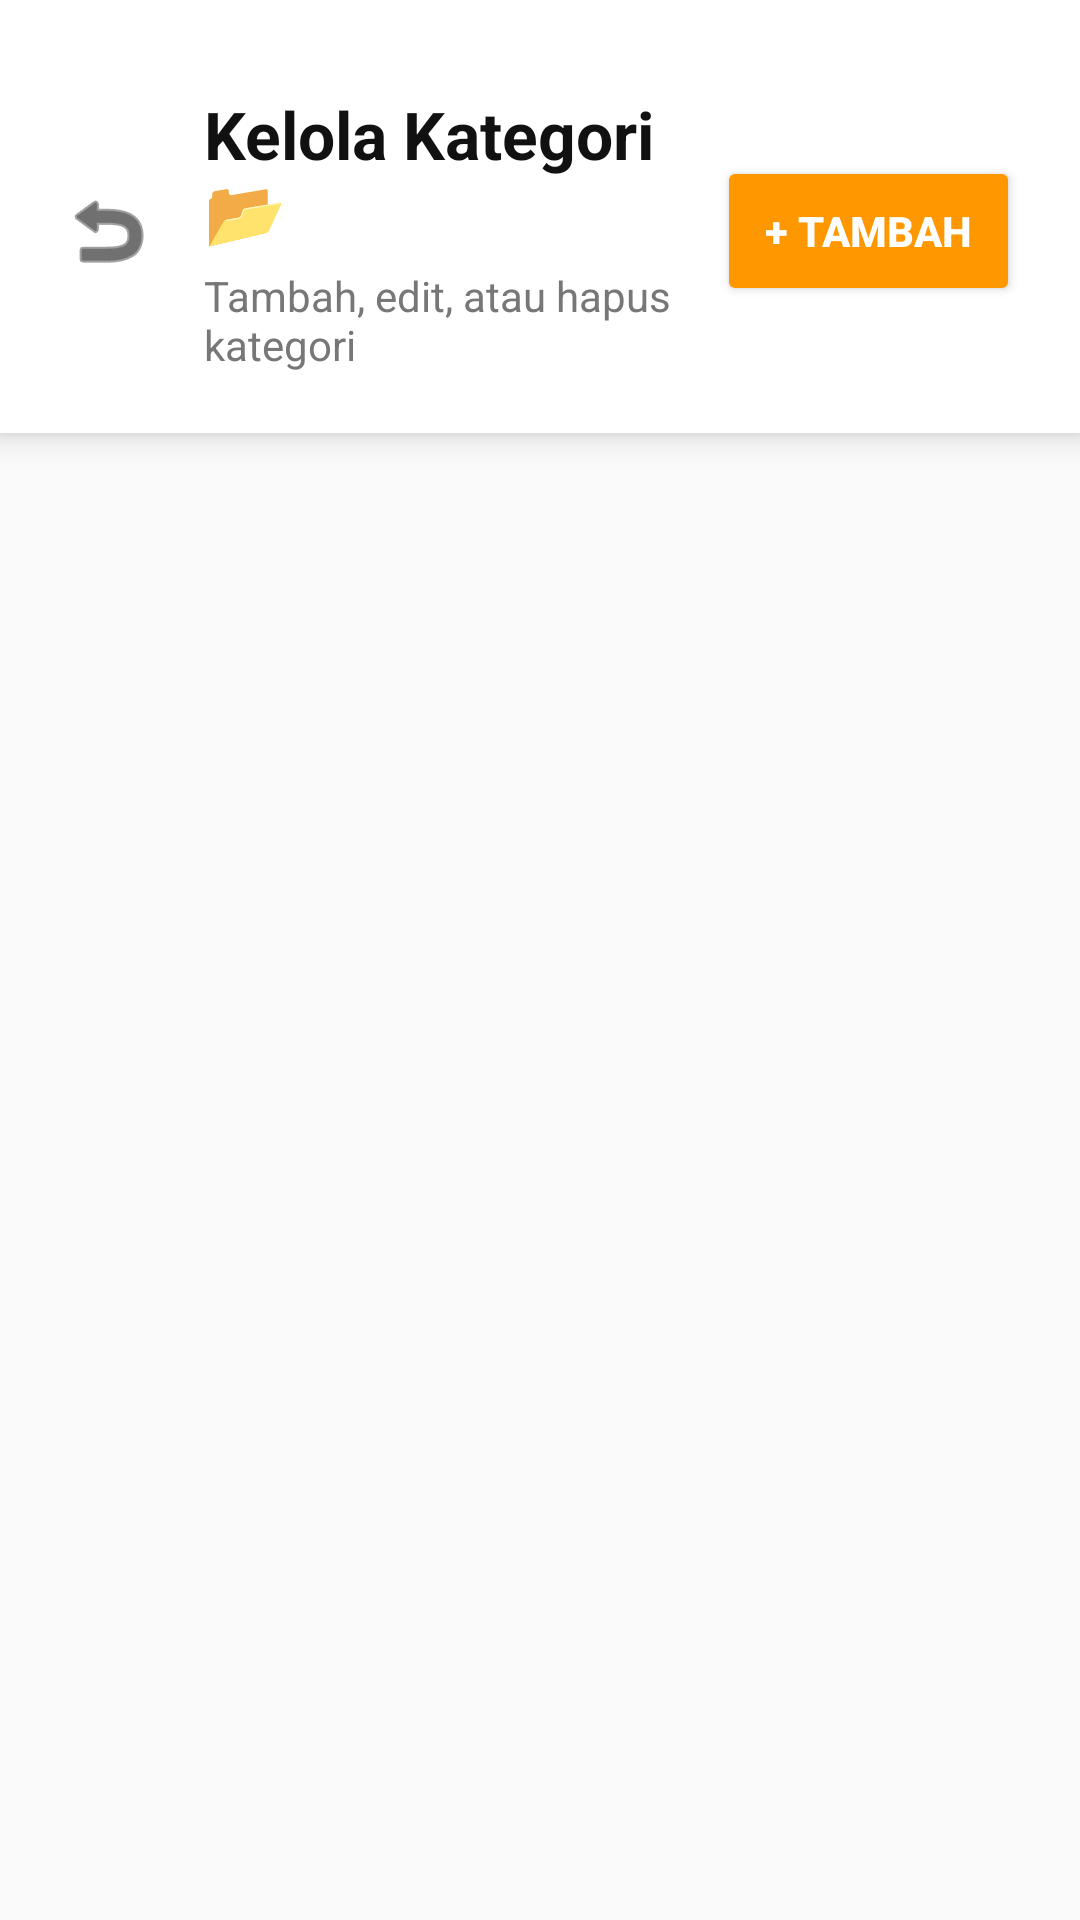

Screen size 1080px x 1920px. Icon name, then its box in pixels as (x1, y1, x2, y2):
Kembali: (75, 200, 144, 263)
